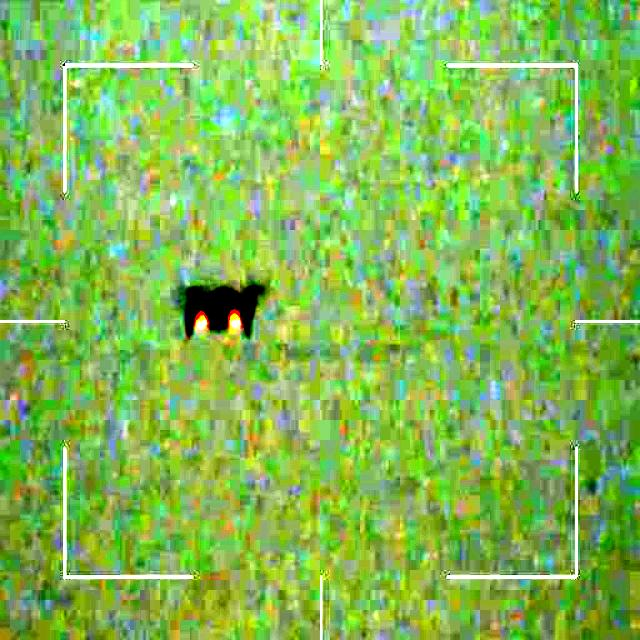bird: (179, 282, 268, 338)
